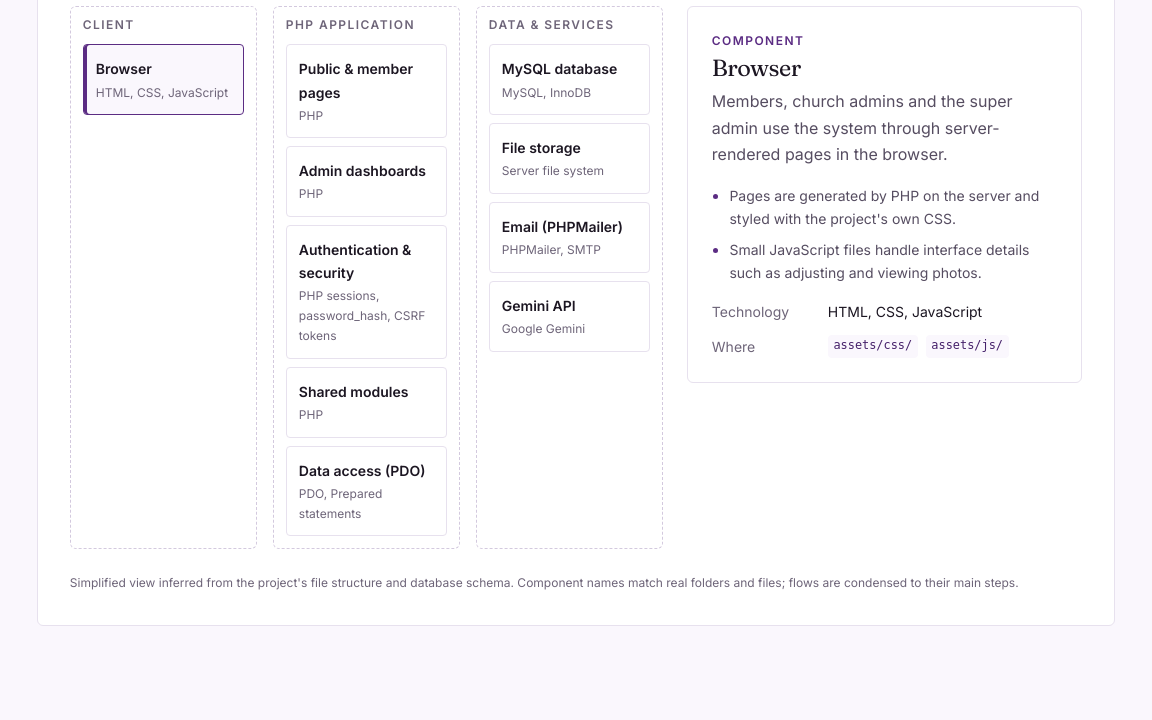
Scenario: Architecture Explorer › shows details for the selected component
This screenshot has width=1152, height=720.
(page scrolled)
Click the button "Data access (PDO) PDO, Prepared statements" at (366, 491), box [286,446,447,536]
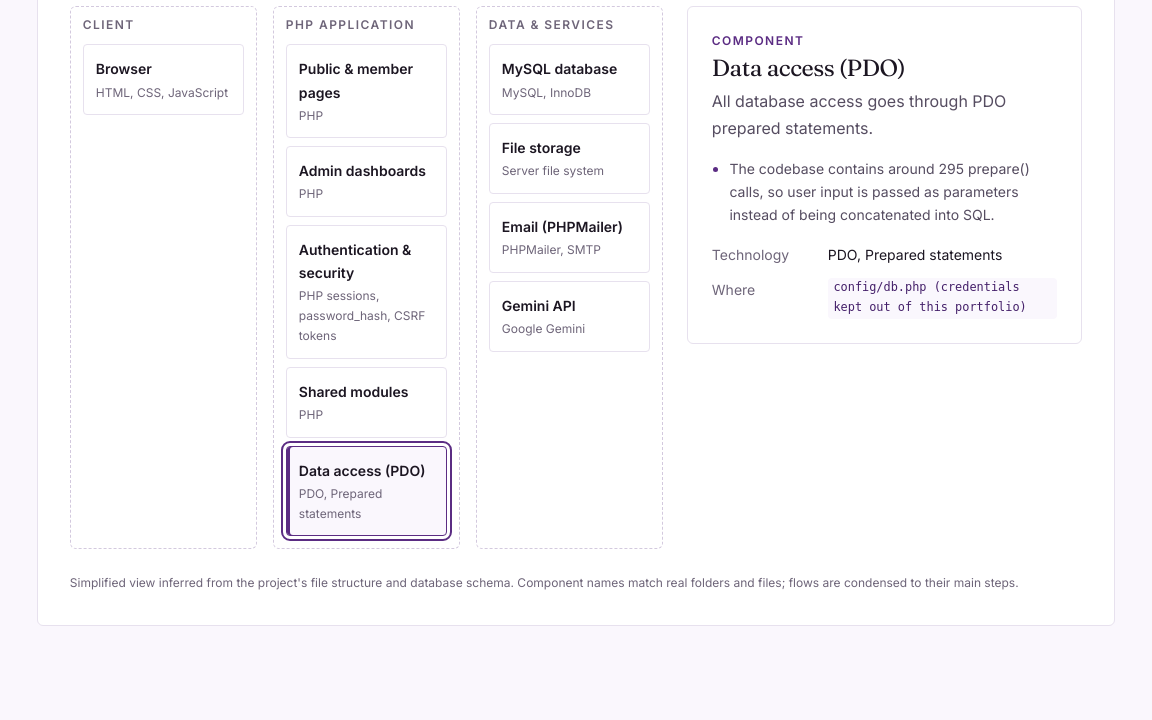
Result: the heading "Data access (PDO)" is shown at [712,53,905,82]
Result: the list item "295 prepare() calls" is shown at [729,160,1030,224]
